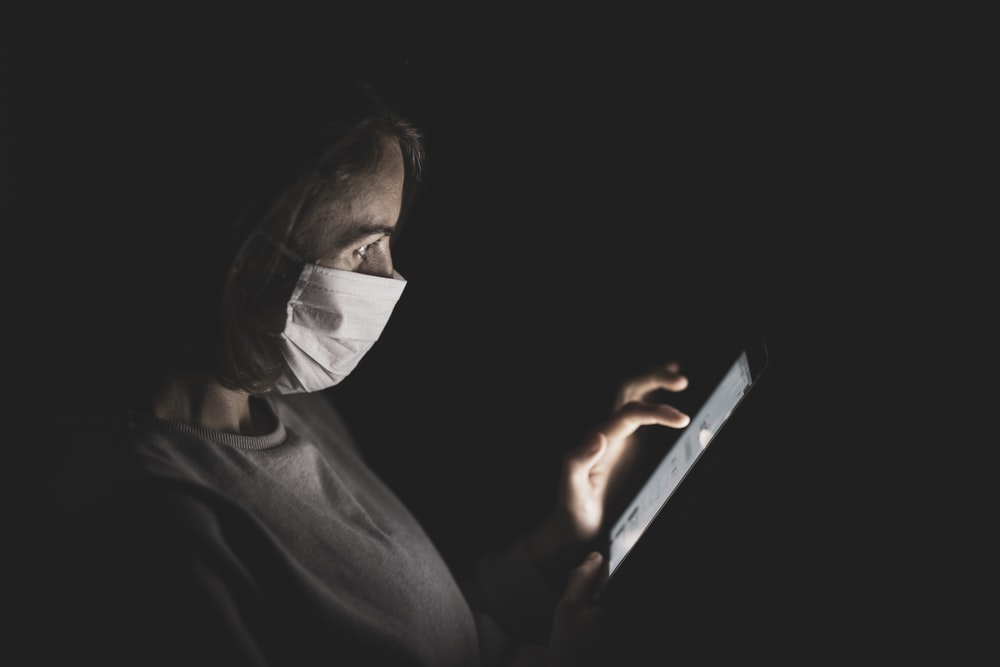with_mask: (183, 114, 453, 426)
